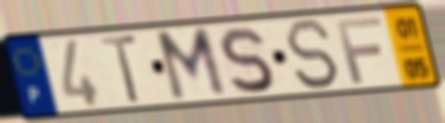4: (59, 36, 102, 110)
F: (333, 14, 386, 86)
M: (152, 24, 231, 105)
S: (282, 17, 343, 92), (217, 25, 277, 97)
T: (98, 33, 144, 107)
